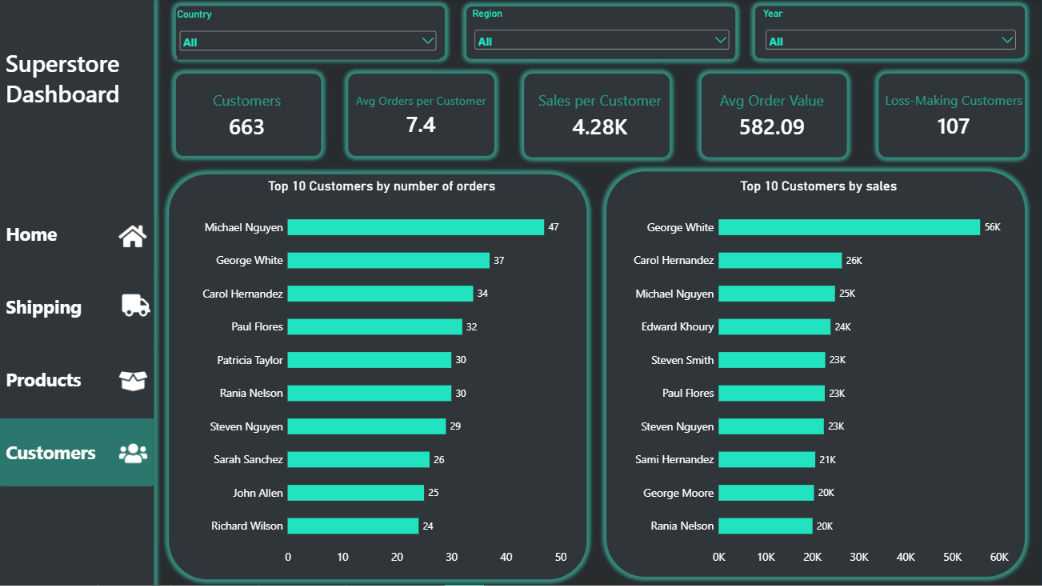

The page's visual inventory and layout, read from the dashboard file:
{"tool":"powerbi","page":{"name":"Customers","canvas":[1920,1080],"ordinal":3},"visuals":[{"type":"pageNavigator","box":[0,369.9,285.3,528.2],"z":0},{"type":"clusteredBarChart","title":"Top 10  Customers by sales","fields":{"Category":["DimCustomer.CustomerName"],"Y":["Main Kpi.Total Sales"]},"box":[1141.1,316.6,734.4,745.4],"z":1000},{"type":"clusteredBarChart","title":"Top 10  Customers by number of orders","fields":{"Category":["DimCustomer.CustomerName"],"Y":["Main Kpi.Orders"]},"box":[347.9,316.6,712.3,745.4],"z":2000},{"type":"textbox","box":[0,88.3,327.6,127],"z":3000},{"type":"cardVisual","fields":{"Data":["Main Kpi.Customers"]},"box":[312.9,154.6,286,122],"z":4000},{"type":"cardVisual","fields":{"Data":["Main Kpi.Avg Orders per Customer"]},"box":[633.1,154.6,286,122],"z":5000},{"type":"cardVisual","fields":{"Data":["Main Kpi.Sales per Customer"]},"box":[962,154,286,122],"z":6000},{"type":"cardVisual","fields":{"Data":["Main Kpi.Average Order Value"]},"box":[1279,154,286,122],"z":7000},{"type":"cardVisual","fields":{"Data":["Main Kpi.Loss-Making Customers"]},"box":[1614.1,154.6,286,122],"z":8000},{"type":"image","box":[206.1,412.3,79.1,51.5],"z":9000},{"type":"image","box":[206.1,539.3,92,51.5],"z":10000},{"type":"image","box":[200.6,679.1,92,51.5],"z":11000},{"type":"image","box":[200.6,811.7,92,51.5],"z":12000},{"type":"slicer","title":"Year","fields":{"Values":["DimDate.Year"]},"box":[1406,16,470,94],"z":13000},{"type":"slicer","title":"Region","fields":{"Values":["DimLocation.Region"]},"box":[870,16,478,94],"z":14000},{"type":"slicer","title":"Country","fields":{"Values":["DimLocation.Country"]},"box":[327,18,482,94],"z":15000}]}

Visuals, with their boxes in screenshot pixels (x1, y1, x2, y2), scaled from the page's 1920x1080 canvas onto the 1042x586 screenshot:
pageNavigator: region(0, 201, 155, 487)
"Top 10  Customers by sales" clusteredBarChart: region(619, 172, 1018, 576)
"Top 10  Customers by number of orders" clusteredBarChart: region(189, 172, 575, 576)
textbox: region(0, 48, 178, 117)
cardVisual - Main Kpi.Customers: region(170, 84, 325, 150)
cardVisual - Main Kpi.Avg Orders per Customer: region(344, 84, 499, 150)
cardVisual - Main Kpi.Sales per Customer: region(522, 84, 677, 150)
cardVisual - Main Kpi.Average Order Value: region(694, 84, 849, 150)
cardVisual - Main Kpi.Loss-Making Customers: region(876, 84, 1031, 150)
image: region(112, 224, 155, 252)
image: region(112, 293, 162, 321)
image: region(109, 368, 159, 396)
image: region(109, 440, 159, 468)
"Year" slicer: region(763, 9, 1018, 60)
"Region" slicer: region(472, 9, 732, 60)
"Country" slicer: region(177, 10, 439, 61)
